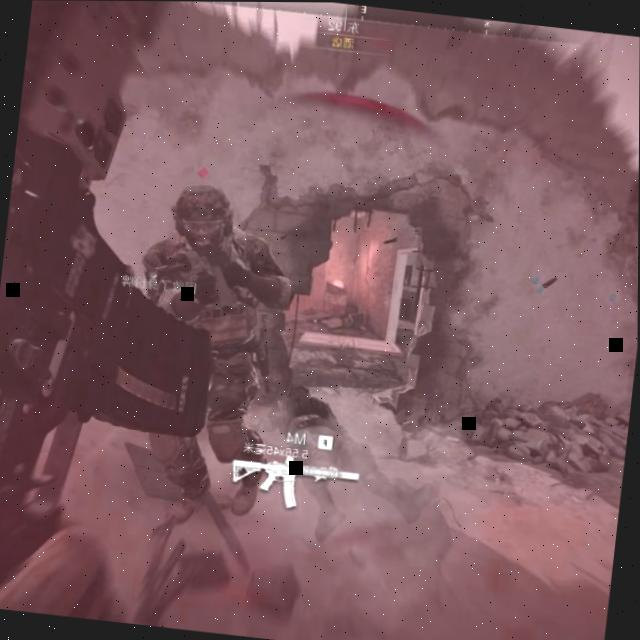MW2_body: (122, 159, 310, 520)
